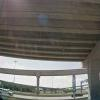Bridge: (13, 10, 91, 87)
